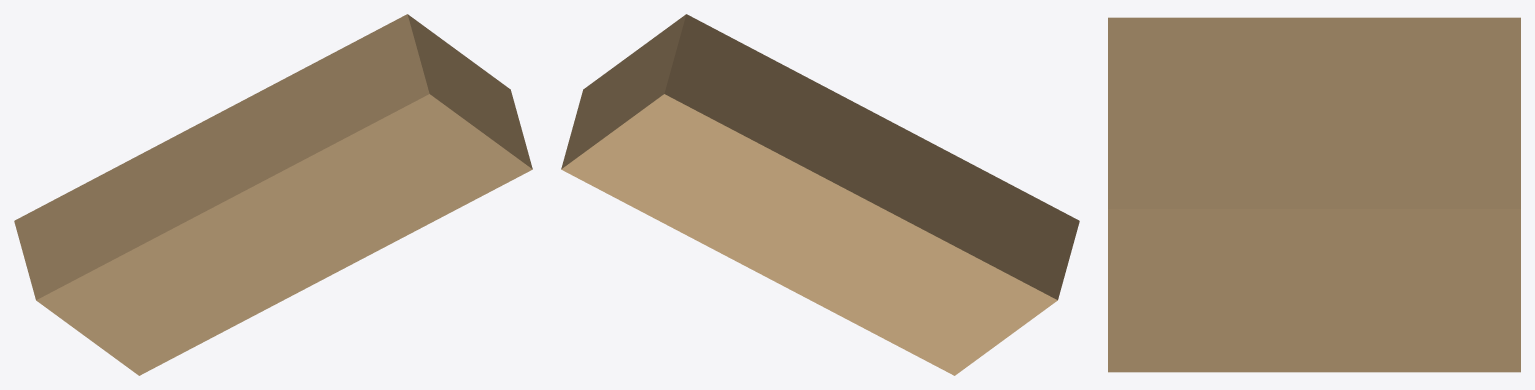
3 renders of one model, left to right at view 1: azimuth 30°, elevation 25°; view 2: azimuth 150°, elevation 25°; view 3: azimuth 270°, elevation 25°, orthographic. The views are drawn at different scales.
Visible parts, largest first — view 1: 0_1_2_0_3_3_3_0; view 2: 0_1_2_0_3_3_3_0; view 3: 0_1_2_0_3_3_3_0.
Boxes of the visible parts, left/top/right/bottom form: 0_1_2_0_3_3_3_0: left=14, top=14, right=532, bottom=375; 0_1_2_0_3_3_3_0: left=561, top=14, right=1079, bottom=375; 0_1_2_0_3_3_3_0: left=1108, top=17, right=1520, bottom=372.
Bounding box in the file's own units: 62.74 × 28.24 × 27.
